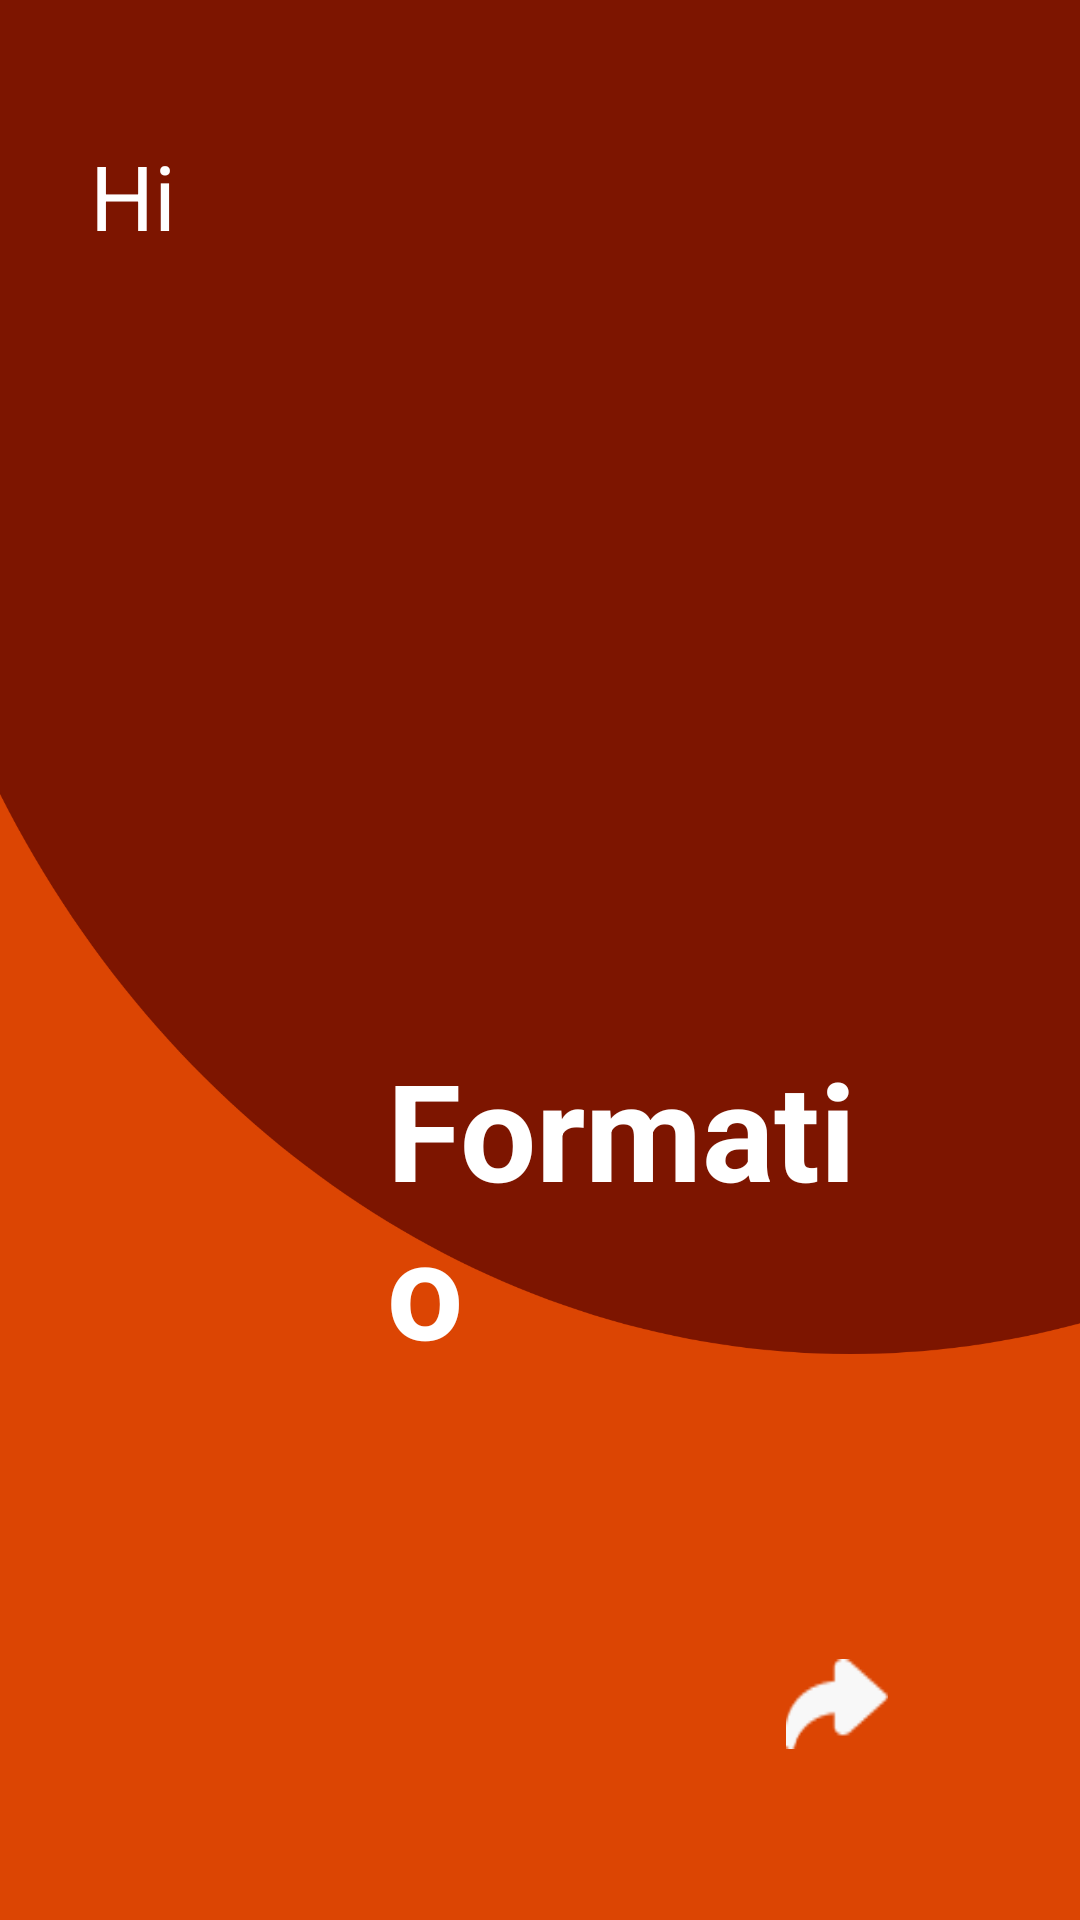

Where icons sit on this 1080px×1920px app screen, as (x1, y1, x2, y2):
frowardbtn: (786, 1659, 888, 1749)
